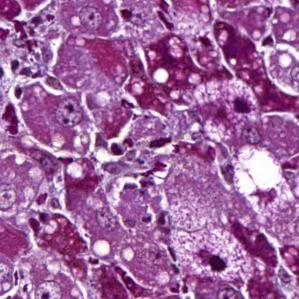ballooning: (231, 141, 285, 200)
